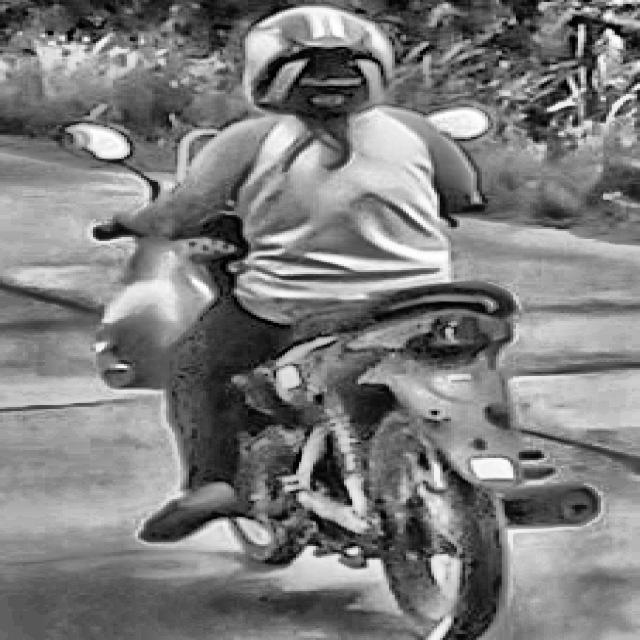Helmet: (224, 8, 422, 132)
